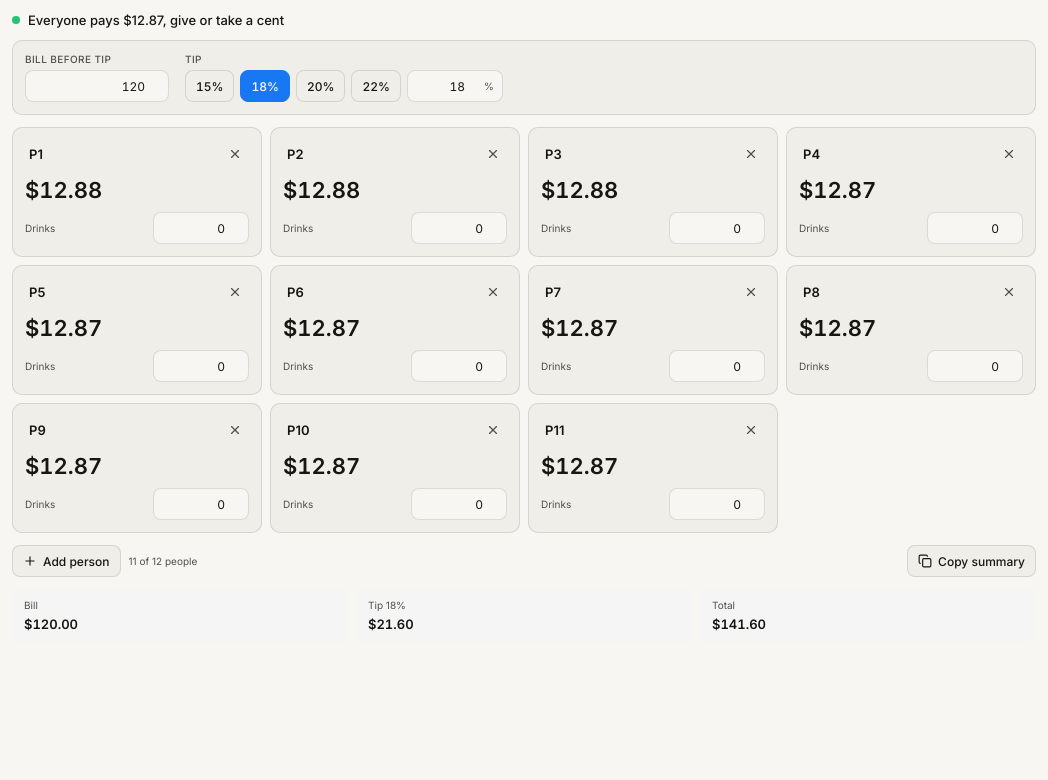
bill-split: edits › stops adding at 12
Click the button "Add person". click: (66, 561)
box: [12,545,120,577]
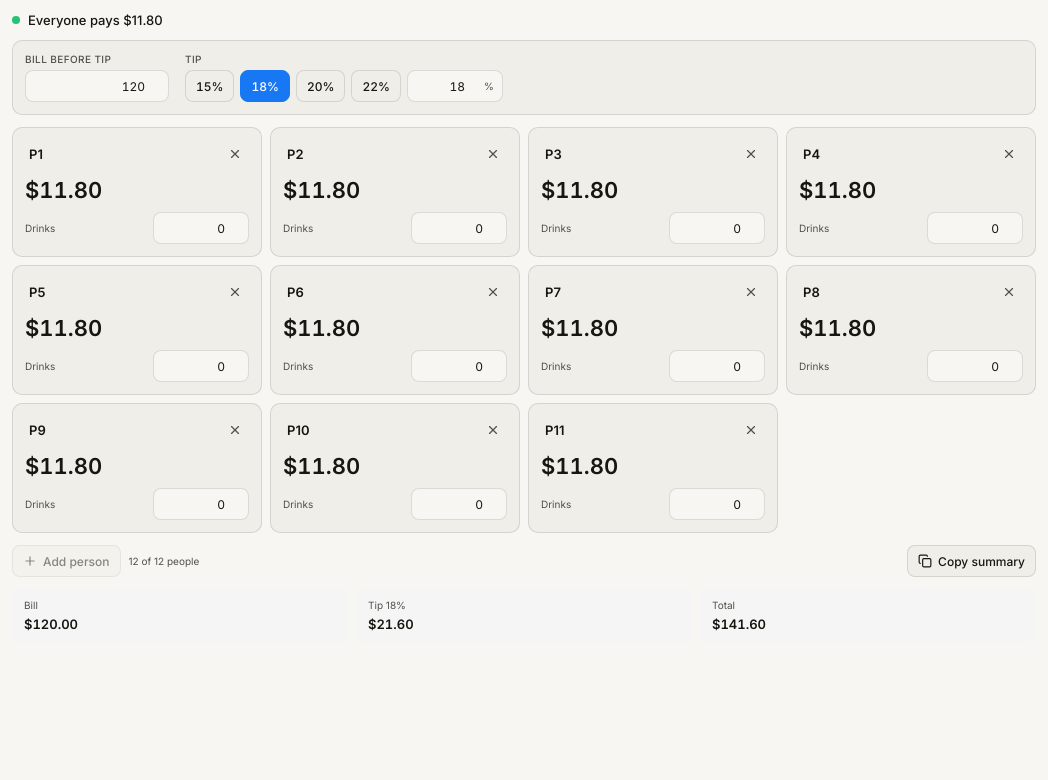
Now the button "Add person" is disabled, box [12,545,120,577]
